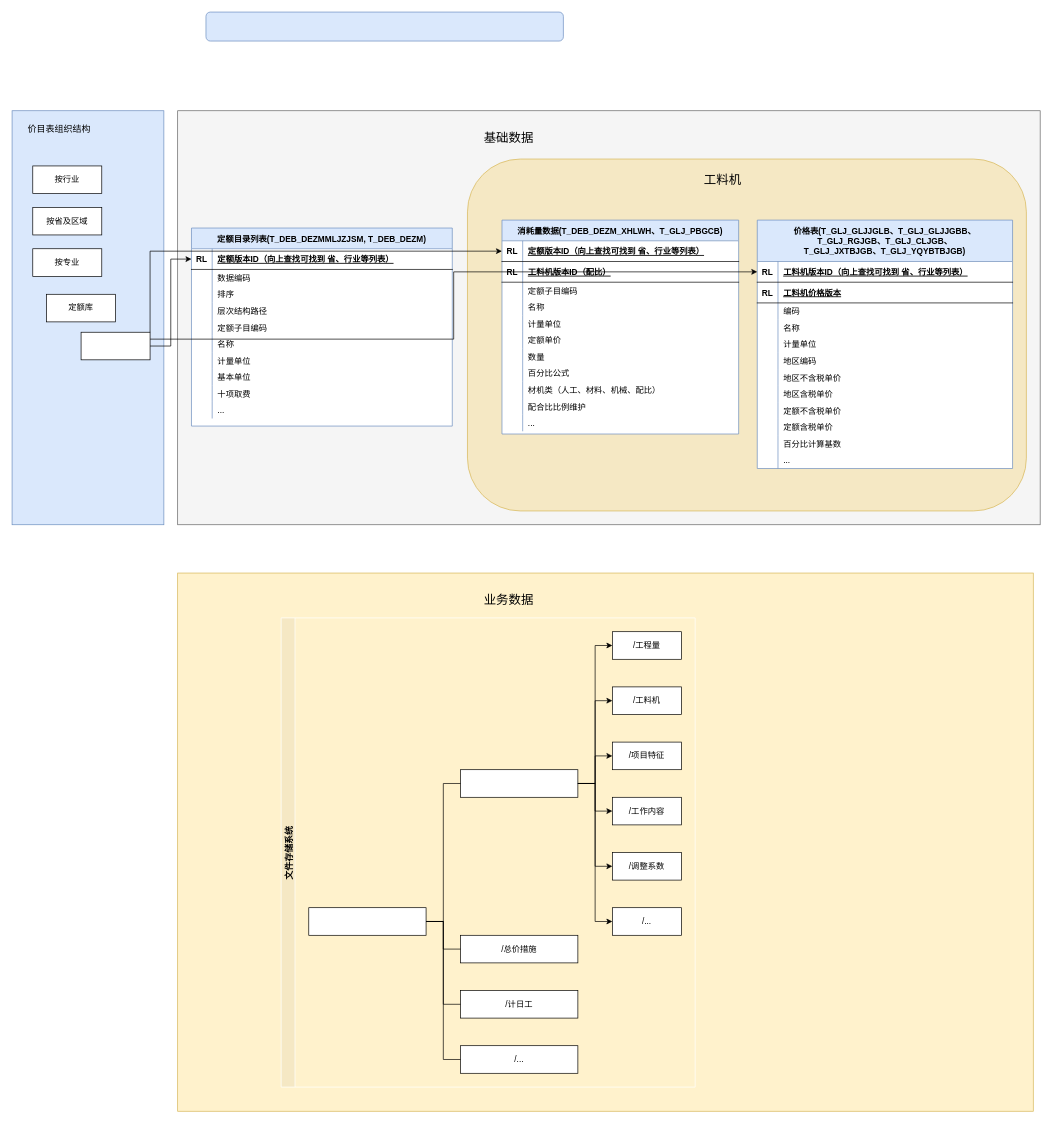
This 1052x1123 diagram has some shape labels left out. The centre of each missing label's shape, as x and y in pixels:
/分部分项: point 519,783
单项工程/单位工程: point 367,921
定额基础数据: point 384,26
定额库版本: point 115,346
